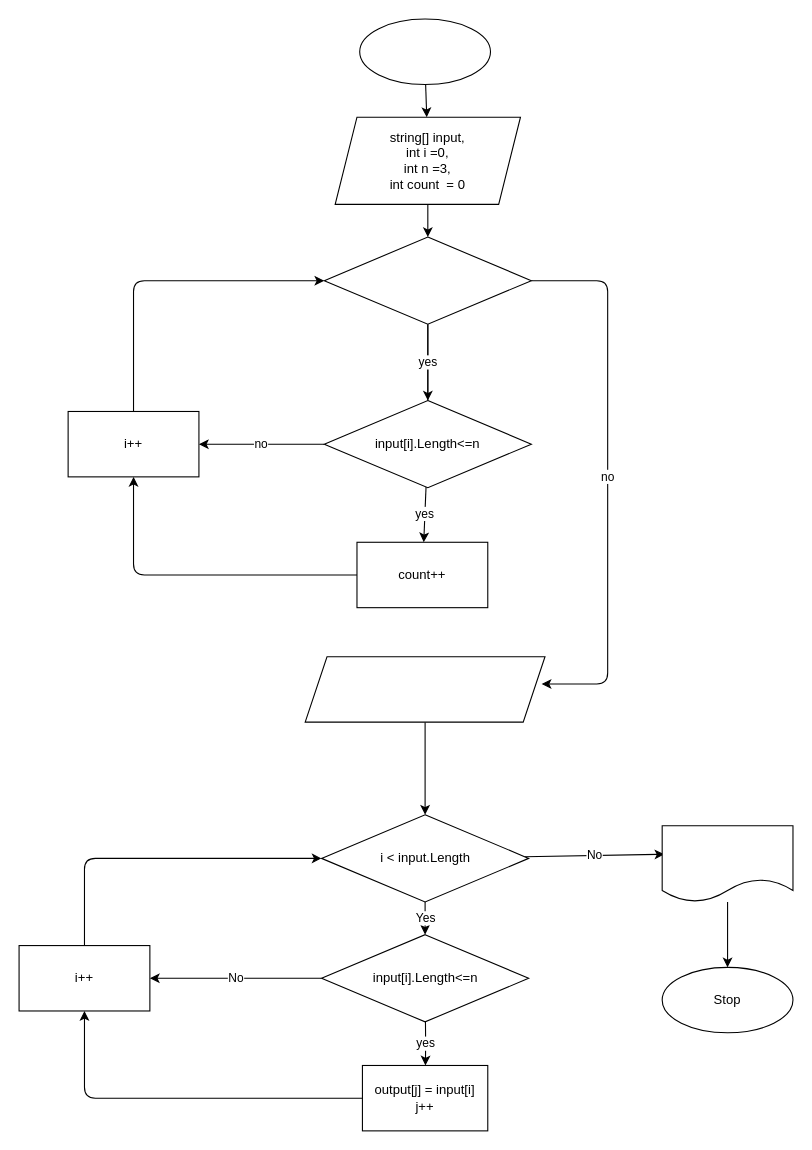
The diagram is 812 pixels wide and 1150 high, and some of its shapes have lost their labels. The shapes that lost their labels are listed below. From the top down, each one's centre as x and y in pixels, then its label:
At [425,51]: "Start".
At [427,280]: "i<input.Lenth".
At [424,689]: "string[count] output, int i =0, int j = 0".
At [727,863]: "Print(output)".
